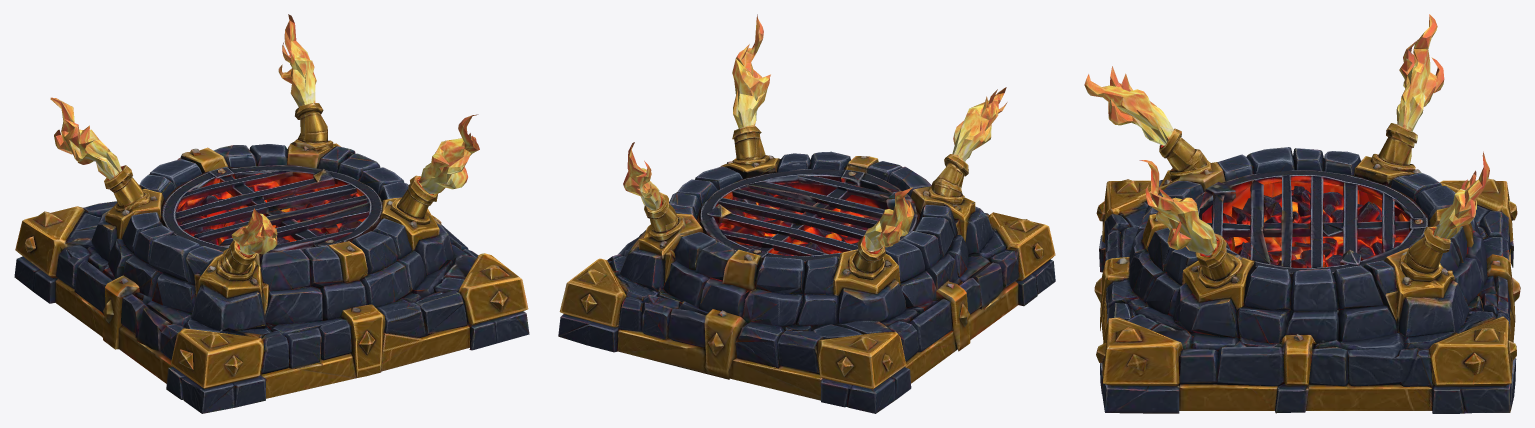
The model's file is pyro_trap.glb.
3 renders of one model, left to right at view 1: azimuth 30°, elevation 25°; view 2: azimuth 150°, elevation 25°; view 3: azimuth 270°, elevation 25°, orthographic. The views are drawn at different scales.
Visible parts, largest first — view 1: Mesh_0; view 2: Mesh_0; view 3: Mesh_0.
Boxes of the visible parts, bbox=[...] form: Mesh_0: bbox=[14, 14, 529, 413]; Mesh_0: bbox=[558, 14, 1055, 413]; Mesh_0: bbox=[1084, 14, 1520, 413].
Size of the model in its own units: 1.82 by 1.13 by 1.9.
1 material, 1 textured.
